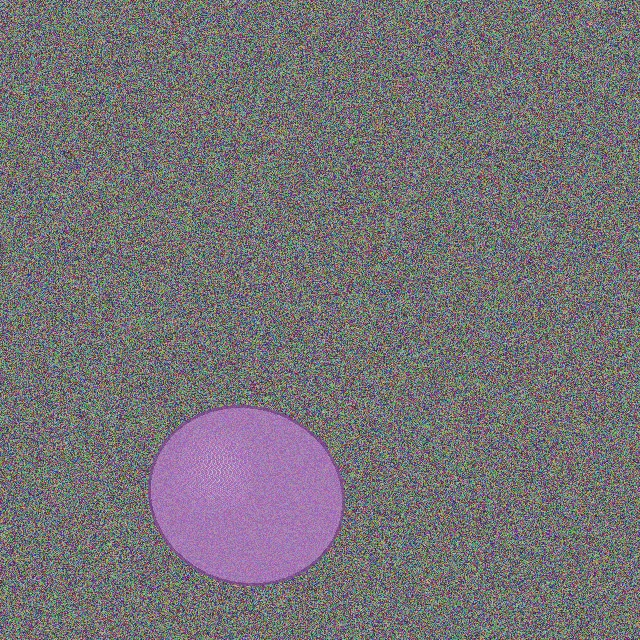lens: (149, 406, 343, 584)
